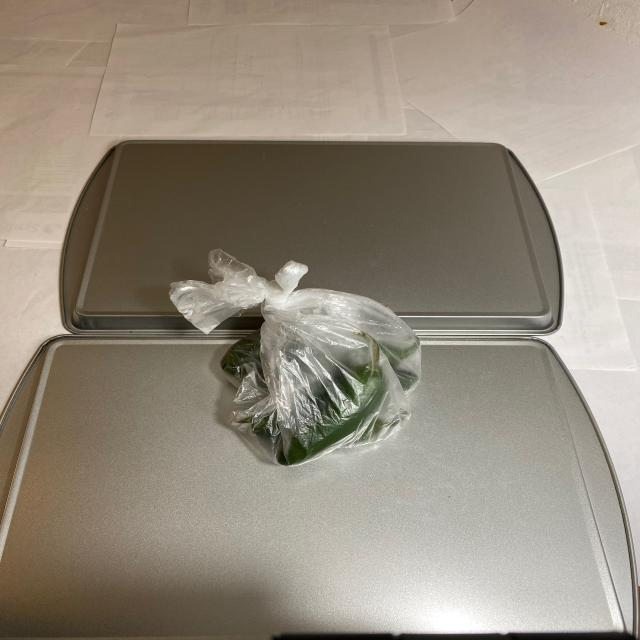chilli: (200, 302, 426, 471)
